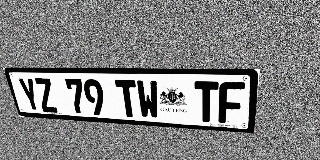7: (63, 79, 89, 115)
9: (82, 79, 107, 116)
F: (218, 82, 245, 124)
T: (194, 81, 218, 123), (115, 80, 139, 118)
W: (136, 80, 160, 119)
Y: (17, 78, 42, 112)
Z: (33, 78, 59, 113)
